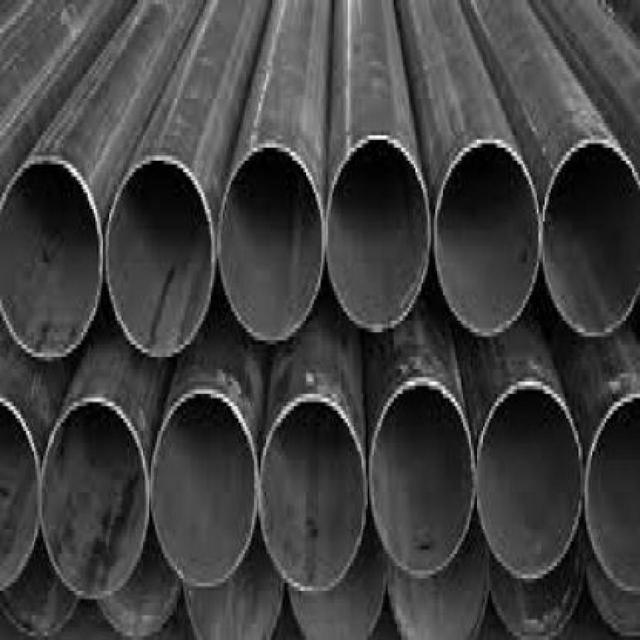pipe: (103, 153, 220, 361), (36, 393, 153, 601), (430, 135, 548, 340), (212, 140, 326, 347), (146, 387, 262, 590), (470, 379, 586, 582), (320, 129, 435, 332), (364, 374, 478, 577), (256, 393, 368, 596), (0, 153, 106, 362), (535, 131, 640, 340), (581, 386, 640, 594), (0, 391, 43, 594)
